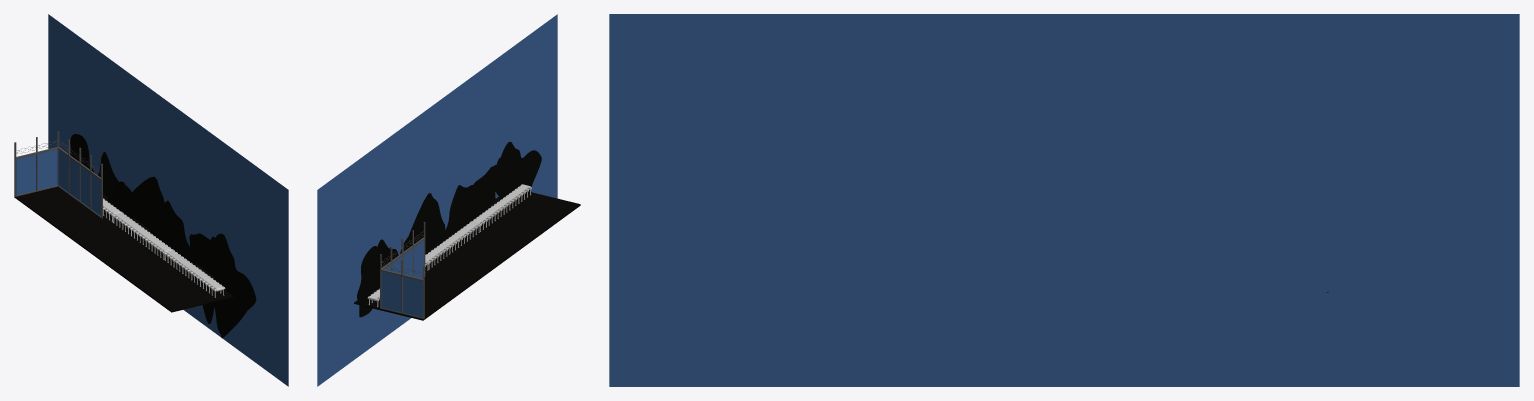
Rendered from FirstMap.fbx.
3 renders of one model, left to right at view 1: azimuth 30°, elevation 25°; view 2: azimuth 150°, elevation 25°; view 3: azimuth 270°, elevation 25°, orthographic. The views are drawn at different scales.
Parts seen in each view (by area): view 1: Plane003; view 2: Plane003; view 3: Plane003.
Part boxes in pixels (x1,y1,x2,y2): Plane003: (14,14,288,386); Plane003: (317,14,580,386); Plane003: (609,14,1519,386).
Size of the model in its own units: 126 by 337 by 744.
